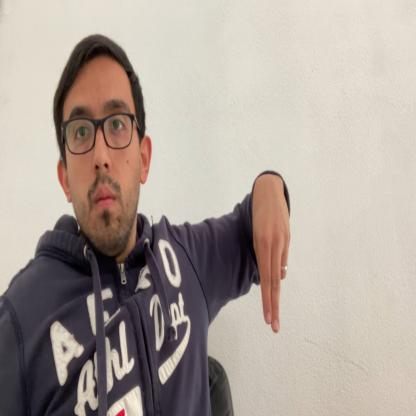N: (251, 173, 292, 334)
